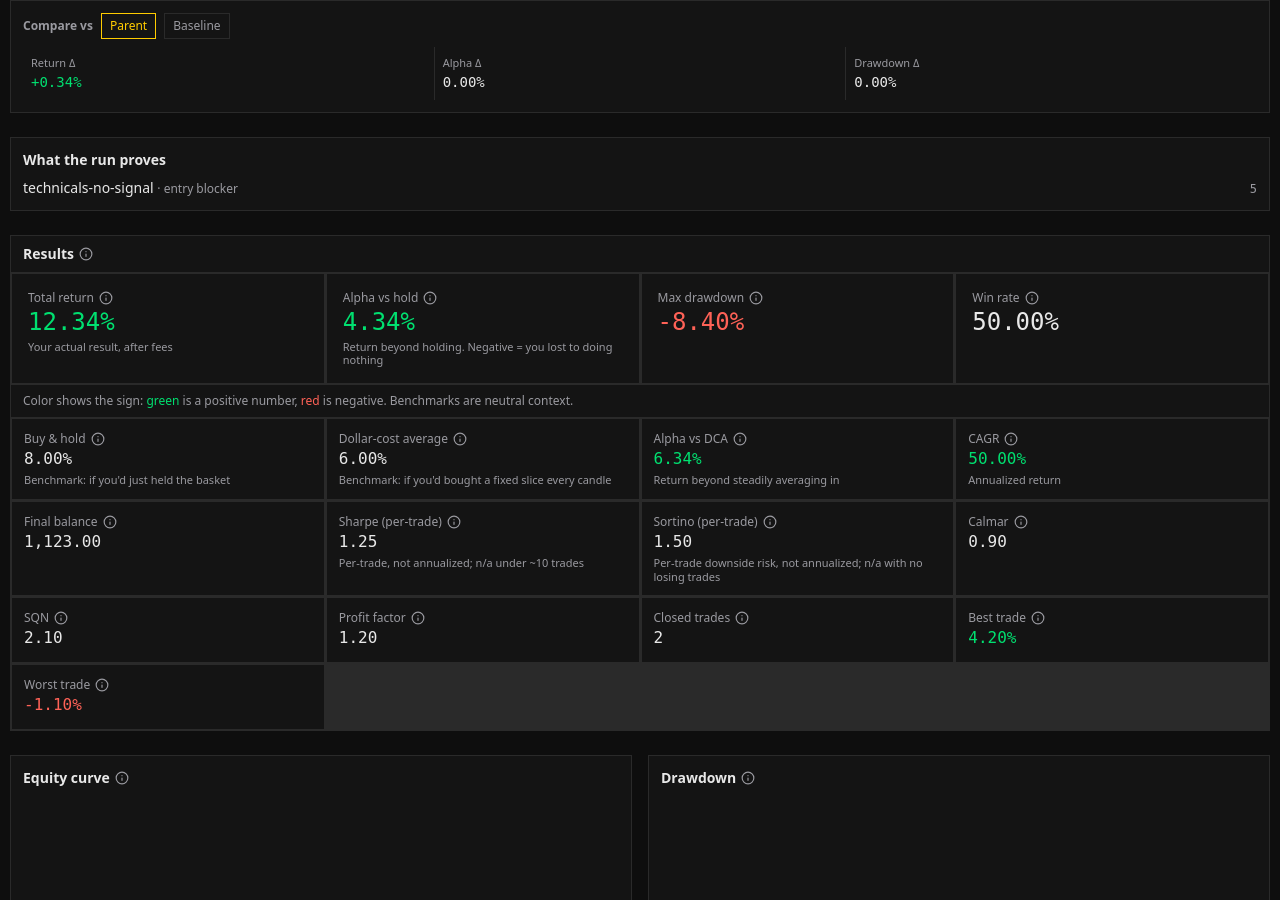
Test: BacktestResults ComparisonHeader › switches anchors when Baseline is clicked and recomputes deltas against it
Expected: the text "+0.34%" is shown, [31,74,82,90]
Click the button with test id "backtest-compare-baseline": point(197, 26) [164,13,230,39]
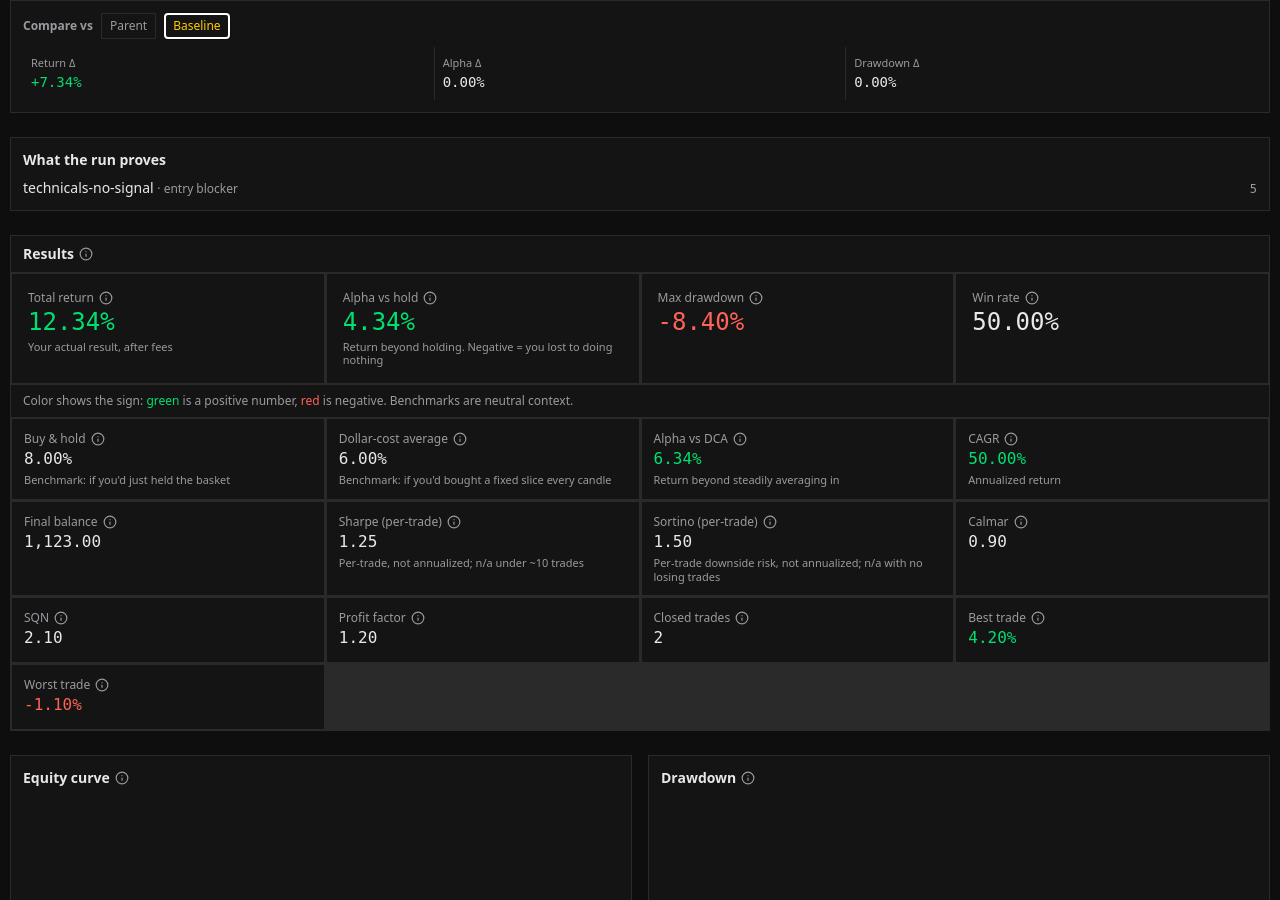
Result: the text "+7.34%" is shown at [31,74,82,90]
